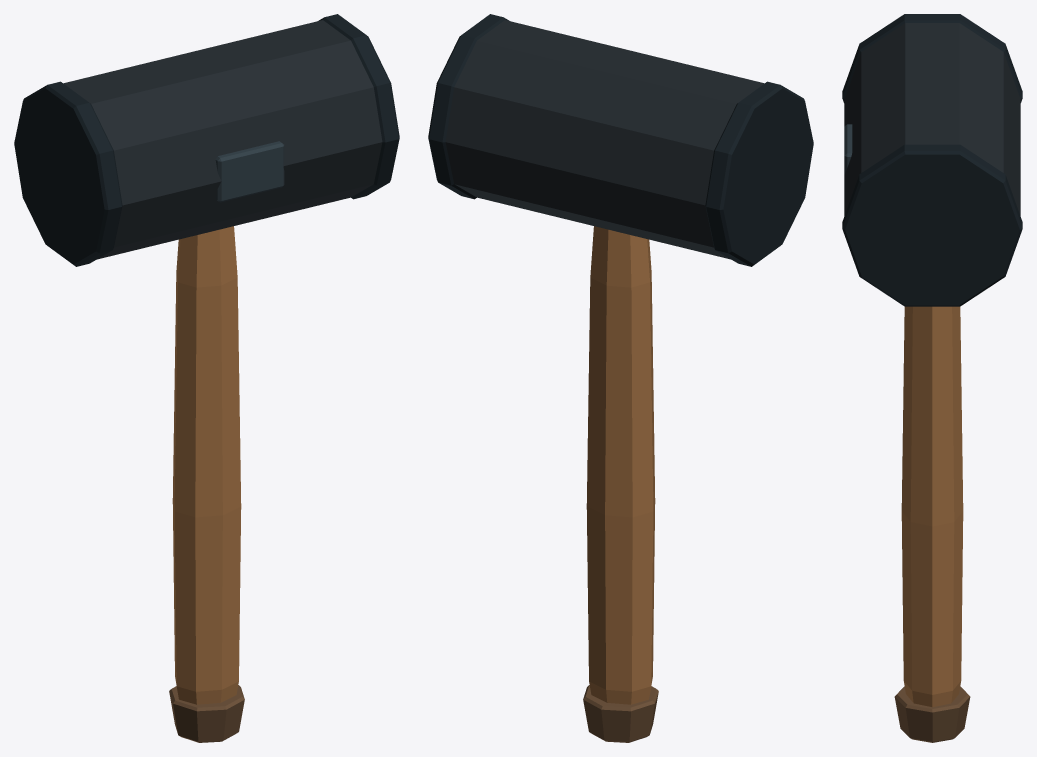
File: b06_rubber_mallet.glb
The picture shows the model from 3 angles, left to right: view 1: azimuth 30°, elevation 25°; view 2: azimuth 150°, elevation 25°; view 3: azimuth 270°, elevation 25°; orthographic projection. The views are drawn at different scales.
Parts seen in each view (by area): view 1: b06_rubber_mallet; view 2: b06_rubber_mallet; view 3: b06_rubber_mallet.
Part boxes in pixels (<box>): b06_rubber_mallet: <box>14,14,399,742</box>; b06_rubber_mallet: <box>428,14,813,742</box>; b06_rubber_mallet: <box>842,14,1022,742</box>.
Bounding box in the file's own units: 0.146 × 0.317 × 0.08.
